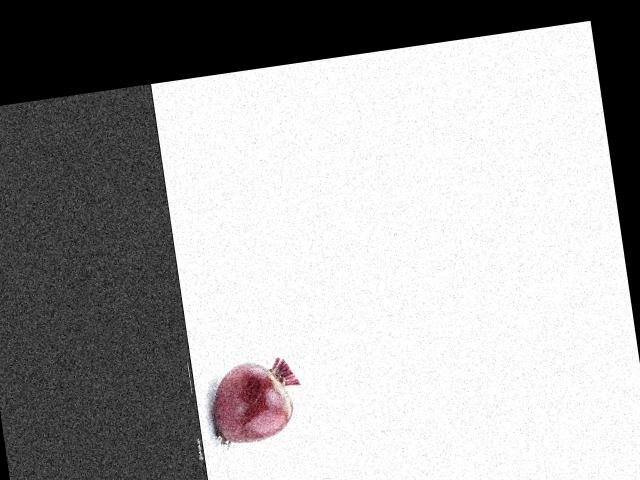beet: (207, 355, 306, 446)
